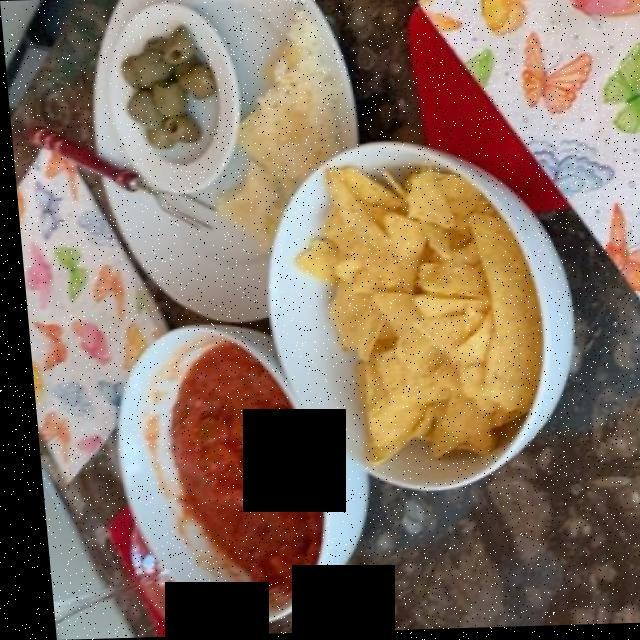corn-crisps: (290, 156, 536, 463)
green-olives: (120, 32, 215, 143)
